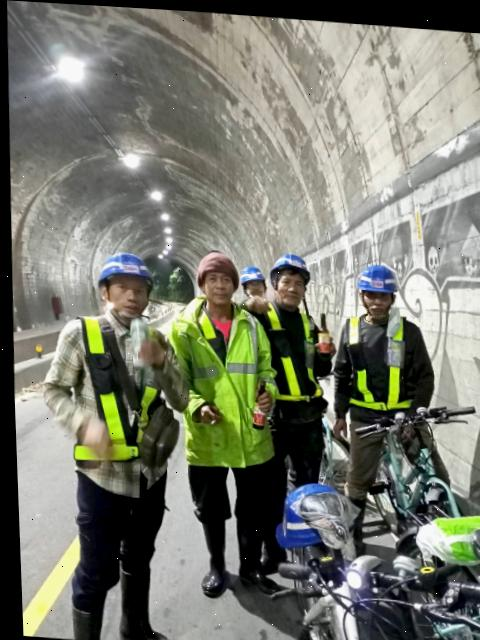helmet: (91, 246, 152, 286), (352, 255, 399, 290), (266, 246, 307, 279), (236, 260, 259, 285)
vest: (175, 300, 267, 465), (67, 316, 165, 467), (338, 305, 406, 408), (260, 299, 316, 400)
